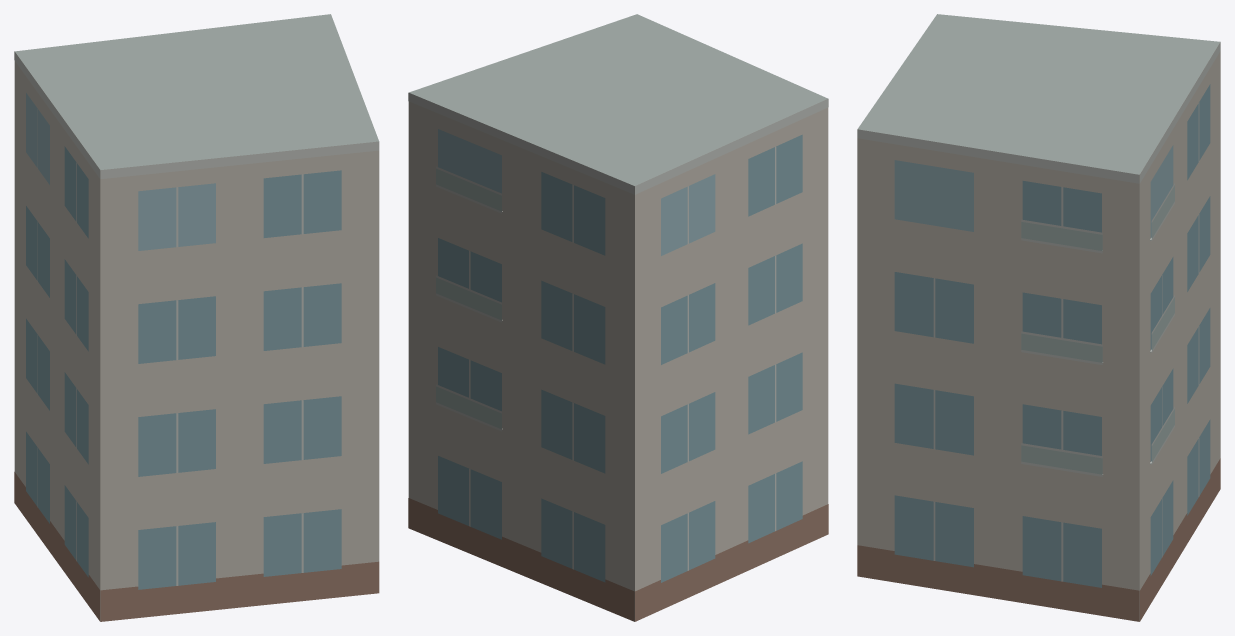
The model's file is survey-upis-32496455.glb.
3 views of the same model, side by side, from view 1: azimuth 30°, elevation 25°; view 2: azimuth 150°, elevation 25°; view 3: azimuth 270°, elevation 25° (orthographic). The views are drawn at different scales.
Parts seen in each view (by area): view 1: survey-upis-32496455.tmp; view 2: survey-upis-32496455.tmp; view 3: survey-upis-32496455.tmp.
Boxes of the visible parts, <box> form: survey-upis-32496455.tmp: <box>14,14,379,621</box>; survey-upis-32496455.tmp: <box>408,14,828,621</box>; survey-upis-32496455.tmp: <box>857,14,1220,621</box>.
Size of the model in its own units: 9.42 by 12.2 by 8.99.
